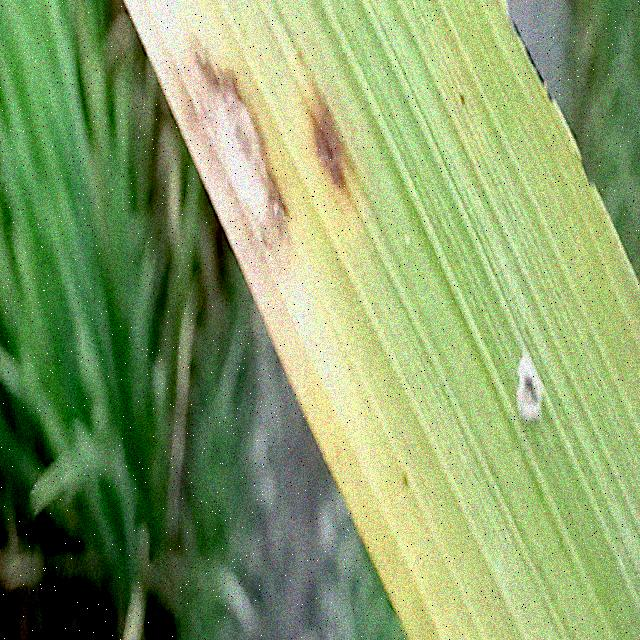LEAF BLAST: (168, 43, 293, 270)
